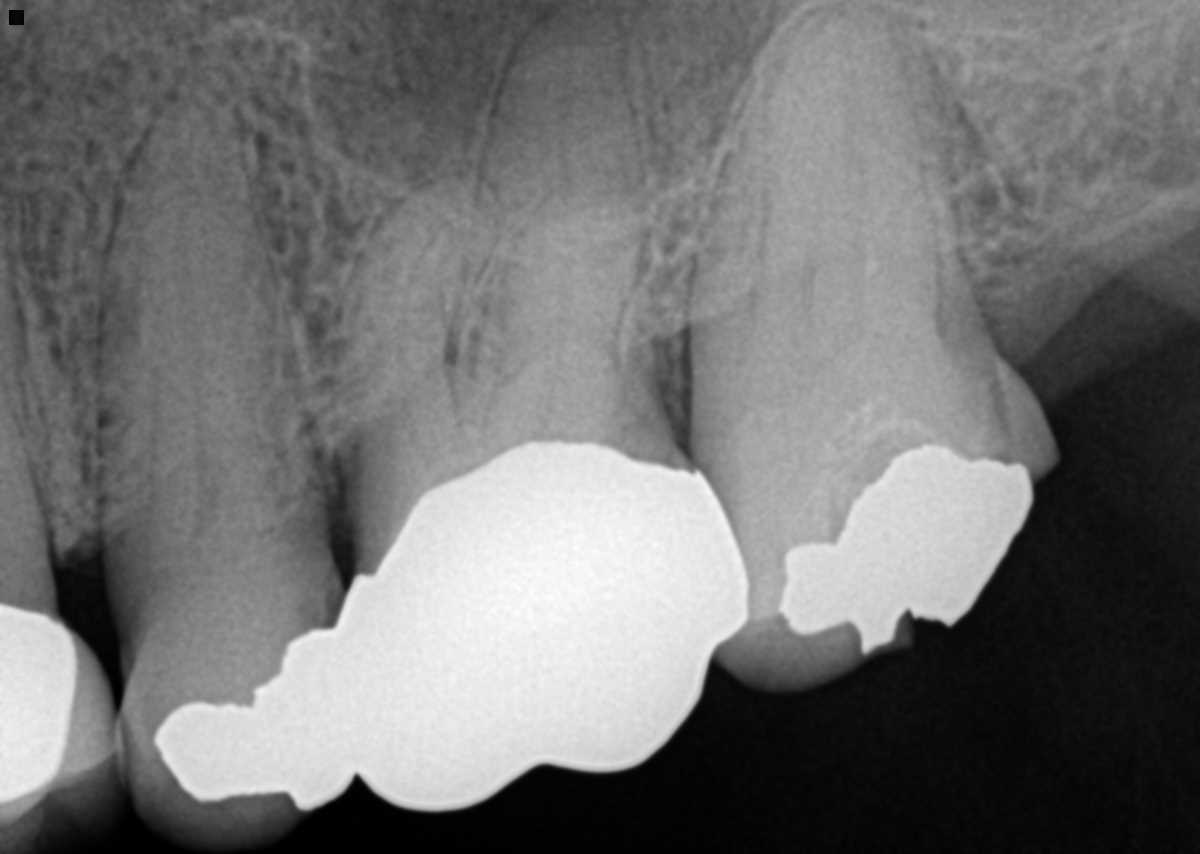Distal Root: (491, 198, 651, 456)
Main Canal: (184, 216, 224, 502)
Main Root: (681, 0, 971, 415), (91, 70, 320, 538), (0, 359, 48, 566)
Mesial Canal: (394, 223, 451, 456)
Mesial Root: (332, 175, 499, 487)
Palatal Canal: (555, 56, 574, 263)
Palatal Root: (438, 0, 658, 474)
